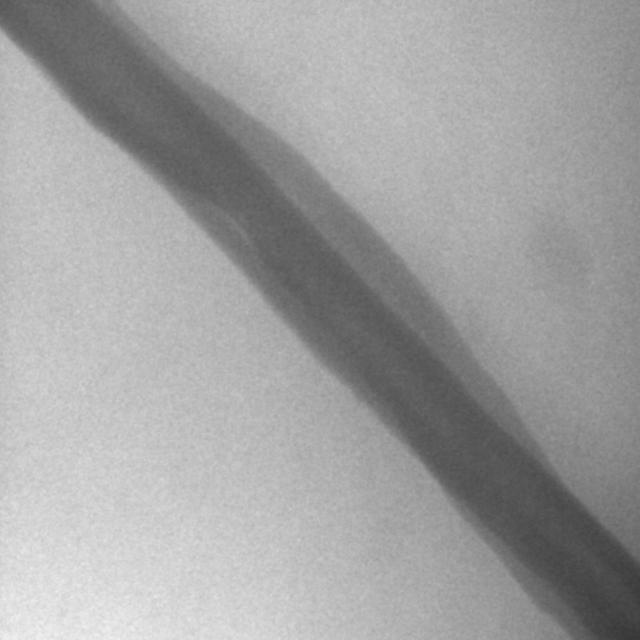unfused: (199, 191, 265, 258)
